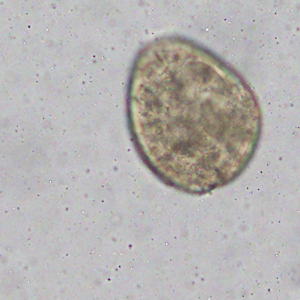Fasciola_hepatica_egg: (125, 33, 262, 198)
